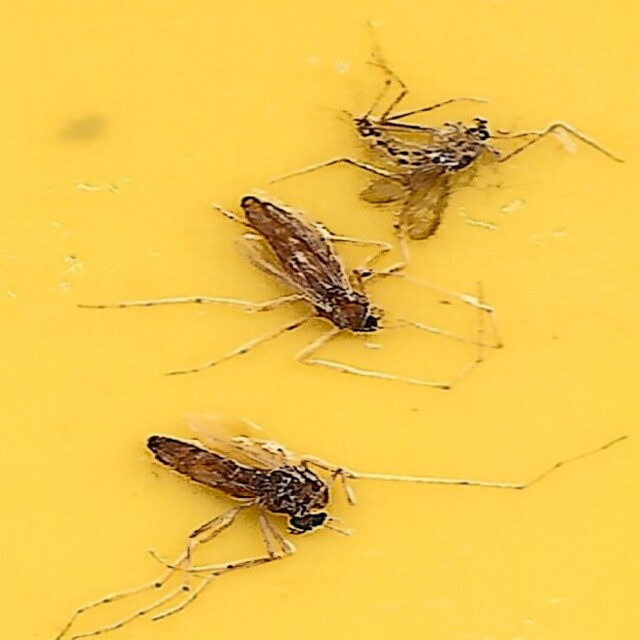Nematocera: (225, 188, 406, 344), (136, 422, 340, 543), (340, 97, 504, 238)
